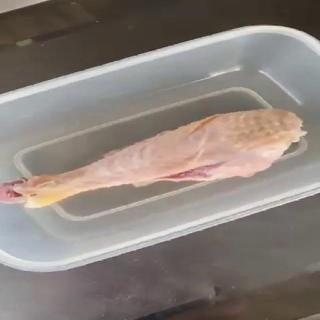Ayam: (1, 109, 309, 209)
